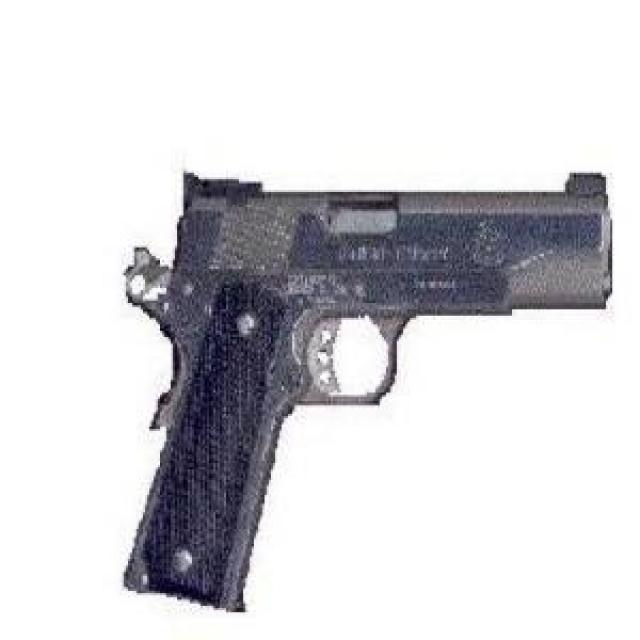pistol: (119, 170, 616, 602)
